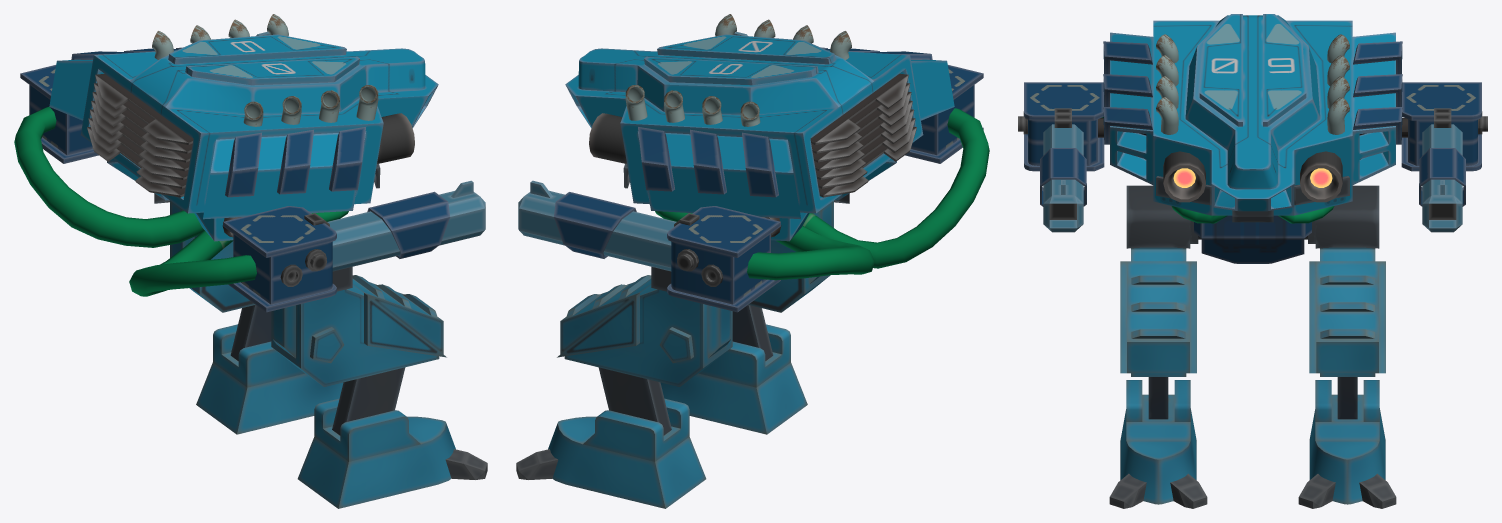
Rendered from mech_ready.glb.
The picture shows the model from 3 angles, left to right: view 1: azimuth 30°, elevation 25°; view 2: azimuth 150°, elevation 25°; view 3: azimuth 270°, elevation 25°; orthographic projection. The views are drawn at different scales.
Visible parts, largest first — view 1: Cylinder.001_low, Cube.002_low, Cube.001_low, Cube.003_low, Cube.006_low; view 2: Cylinder.001_low, Cube.003_low, Cube.006_low, Cube.002_low, Cube.001_low; view 3: Cylinder.001_low, Cube.002_low, Cube.003_low, Cube.001_low, Cube.006_low.
Boxes of the visible parts, left/top/right/bottom form: Cylinder.001_low: left=14, top=14, right=438, bottom=296; Cube.002_low: left=271, top=267, right=487, bottom=508; Cube.001_low: left=222, top=180, right=485, bottom=312; Cube.003_low: left=154, top=193, right=343, bottom=434; Cube.006_low: left=20, top=31, right=270, bottom=163; Cylinder.001_low: left=565, top=14, right=989, bottom=280; Cube.003_low: left=516, top=267, right=732, bottom=508; Cube.006_low: left=518, top=180, right=781, bottom=312; Cube.002_low: left=660, top=193, right=849, bottom=434; Cube.001_low: left=733, top=31, right=983, bottom=163; Cylinder.001_low: left=1101, top=14, right=1402, bottom=263; Cube.002_low: left=1109, top=185, right=1207, bottom=508; Cube.003_low: left=1298, top=185, right=1396, bottom=508; Cube.001_low: left=1018, top=82, right=1104, bottom=232; Cube.006_low: left=1401, top=82, right=1487, bottom=232.
Bounding box in the file's own units: 1.03 × 1.19 × 1.31.
1 material, 1 textured.
